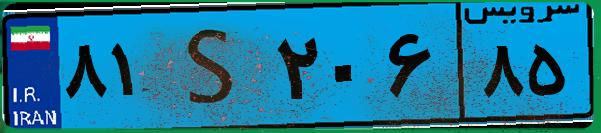0: (330, 28, 385, 110)
1: (110, 28, 158, 98)
2: (270, 28, 330, 110)
5: (525, 38, 570, 115)
6: (385, 28, 445, 110)
8: (57, 26, 110, 100), (475, 38, 525, 113)
S: (158, 12, 270, 120)
